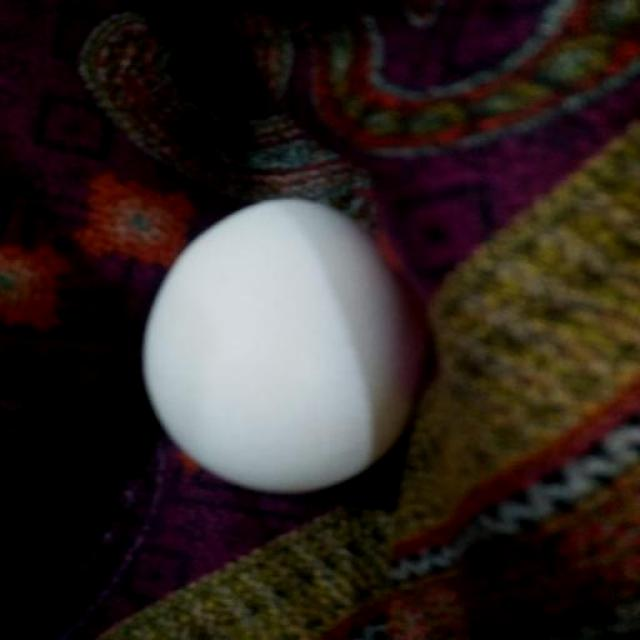telur: (139, 197, 426, 495)
